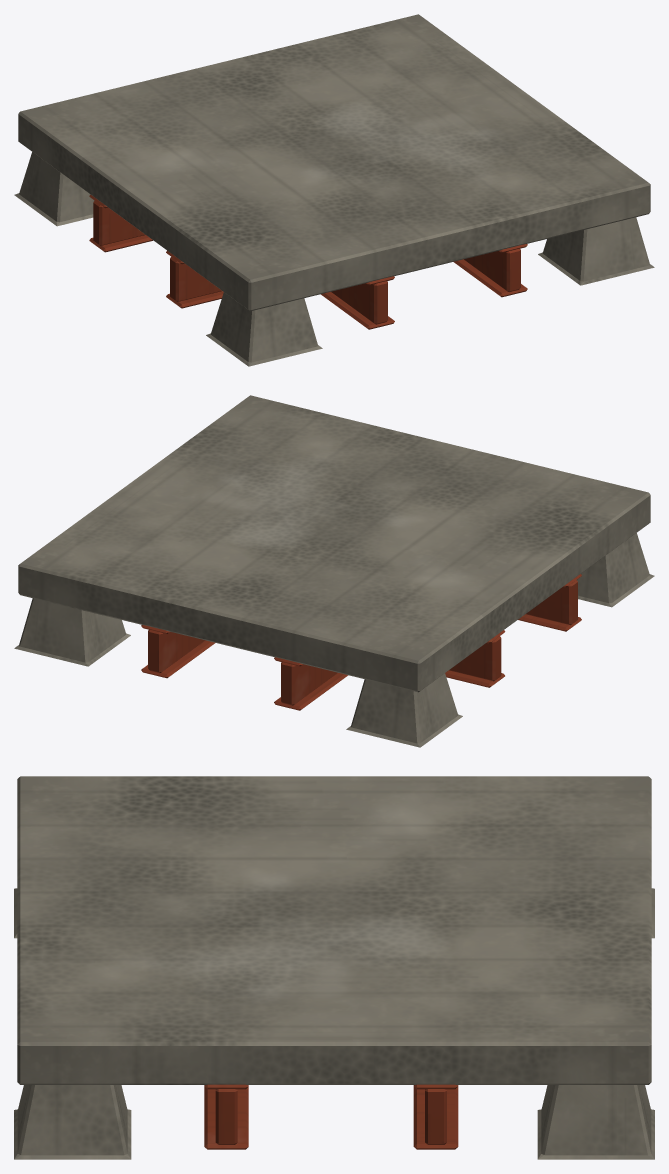
Rendered from WK_ARCH_BAY_FLAT_A_01.glb.
3 renders of one model, top to bottom at view 1: azimuth 30°, elevation 25°; view 2: azimuth 150°, elevation 25°; view 3: azimuth 270°, elevation 25°, orthographic. The views are drawn at different scales.
Visible parts, largest first — view 1: WK_ARCH_BAY_FLAT_A_01; view 2: WK_ARCH_BAY_FLAT_A_01; view 3: WK_ARCH_BAY_FLAT_A_01.
Part boxes in pixels (x1,y1,x2,y2): WK_ARCH_BAY_FLAT_A_01: (14,14,654,366); WK_ARCH_BAY_FLAT_A_01: (14,395,654,747); WK_ARCH_BAY_FLAT_A_01: (14,776,654,1159).
Size of the model in its own units: 4.04 by 0.8 by 4.04.
2 materials, 2 textured.
